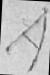U7: (3, 0, 48, 74)
